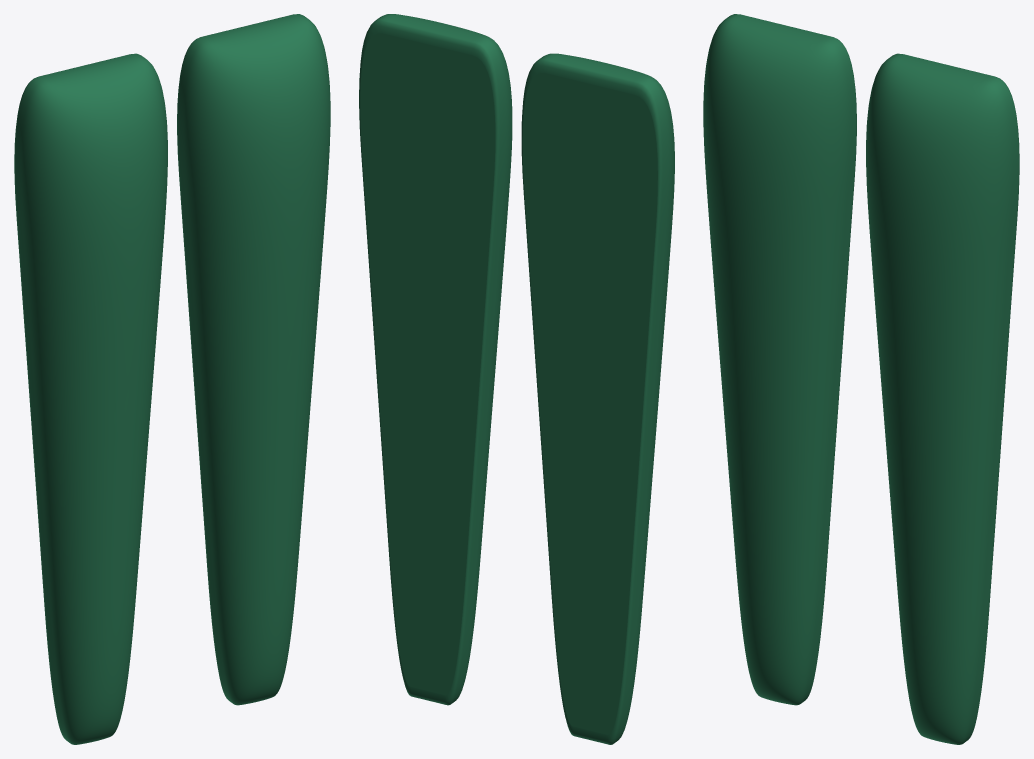
Rendered from matched-pair-v1.glb.
3 renders of one model, left to right at view 1: azimuth 30°, elevation 25°; view 2: azimuth 150°, elevation 25°; view 3: azimuth 330°, elevation 25°, orthographic.
Visible parts, largest first — view 1: Tapered-Baton Cabochon 32x7x3.5mm, Tapered-Baton Cabochon 32x7x3.5mm.001; view 2: Tapered-Baton Cabochon 32x7x3.5mm, Tapered-Baton Cabochon 32x7x3.5mm.001; view 3: Tapered-Baton Cabochon 32x7x3.5mm.001, Tapered-Baton Cabochon 32x7x3.5mm.
Part boxes in pixels (x1,y1,x2,y2): Tapered-Baton Cabochon 32x7x3.5mm: (14,53,167,744); Tapered-Baton Cabochon 32x7x3.5mm.001: (177,14,330,705); Tapered-Baton Cabochon 32x7x3.5mm: (521,53,674,744); Tapered-Baton Cabochon 32x7x3.5mm.001: (359,14,512,705); Tapered-Baton Cabochon 32x7x3.5mm.001: (866,53,1019,744); Tapered-Baton Cabochon 32x7x3.5mm: (703,14,856,705).
Size of the model in its own units: 0.0151 by 0.032 by 0.00349.
